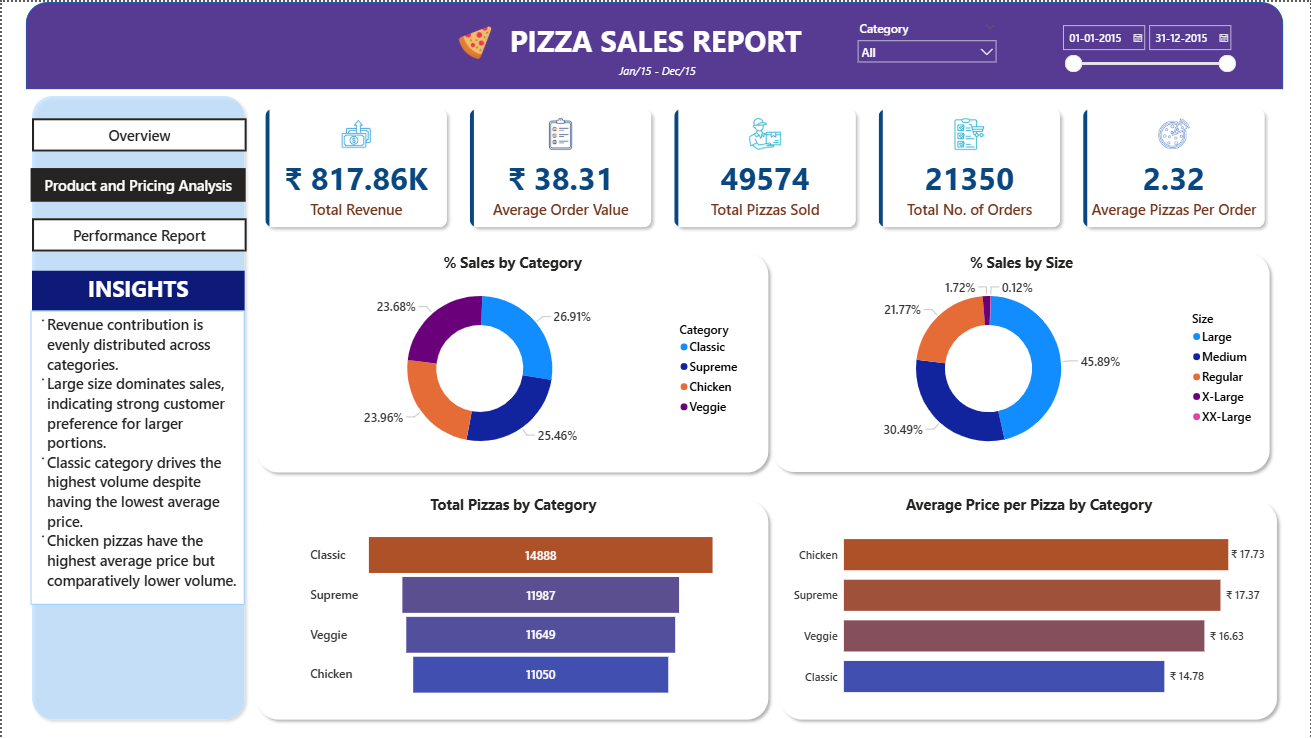

Layout of this report page (visuals, bound fields, positions):
{"tool":"powerbi","page":{"name":"Product and Pricing Analysis","canvas":[1920,1080],"ordinal":1},"visuals":[{"type":"shape","box":[34.9,0,1845.3,128.4],"z":0},{"type":"textbox","box":[656.7,22,605.3,73.4],"z":1000},{"type":"textbox","box":[882.3,84.4,159.6,33],"z":2000},{"type":"image","box":[669.5,34.9,49.5,49.5],"z":3000},{"type":"shape","box":[365,359.5,768.6,340],"z":4000},{"type":"shape","box":[365,722.7,768.6,339.3],"z":5000},{"type":"shape","box":[1122.6,359.5,746.5,339.3],"z":6000},{"type":"shape","box":[1133.6,722.7,746.5,339.3],"z":7000},{"type":"donutChart","title":"% Sales by Size","fields":{"Y":["pizza_sales.Total Revenue"],"Category":["pizza_sales.pizza_size_full"]},"box":[1144.6,366.8,702.5,313.7],"z":8000},{"type":"donutChart","title":"% Sales by Category","fields":{"Category":["pizza_sales.pizza_category"],"Y":["pizza_sales.Total Revenue"]},"box":[403.5,366.8,691.5,313.7],"z":9000},{"type":"funnel","title":"Total Pizzas by Category","fields":{"Category":["pizza_sales.pizza_category"],"Y":["Sum(pizza_sales.quantity)"]},"box":[447.6,722.7,605.3,322.8],"z":10000},{"type":"barChart","title":"Average Price per Pizza by Category","fields":{"Category":["pizza_sales.pizza_category"],"Y":["pizza_sales.Average Price per Pizza"]},"box":[1155.6,722.7,702.5,321],"z":11000},{"type":"shape","box":[34.9,128.4,330.2,933.6],"z":12000},{"type":"textbox","box":[44,394.4,311.8,58.7],"z":13000},{"type":"textbox","box":[42.2,453.1,313.7,431],"z":14000},{"type":"cardVisual","fields":{"Data":["pizza_sales.Total Revenue","pizza_sales.Average Order Value","pizza_sales.Total Pizzas Sold","pizza_sales.Total No. of Orders","pizza_sales.Average Pizzas Per Order"]},"box":[357.7,128.4,1527.9,231.1],"z":15000},{"type":"slicer","fields":{"Values":["pizza_sales.pizza_category"]},"box":[1245.5,22,223.8,78.9],"z":16000},{"type":"slicer","fields":{"Values":["pizza_sales.order_date"]},"box":[1544.4,23.8,275.1,93.5],"z":17000},{"type":"pageNavigator","box":[42.2,244,315.5,49.5],"z":17001},{"type":"pageNavigator","box":[44,170.6,315.5,49.5],"z":17002},{"type":"pageNavigator","box":[44,317.3,315.5,49.5],"z":17003}]}

Visuals, with their boxes in screenshot pixels (x1, y1, x2, y2), scaled from the page's 1920x1080 canvas onto the 1311x738 screenshot:
shape: 24/0/1284/88
textbox: 448/15/862/65
textbox: 602/58/711/80
image: 457/24/491/58
shape: 249/246/774/478
shape: 249/494/774/726
shape: 767/246/1276/478
shape: 774/494/1284/726
"% Sales by Size" donutChart: 782/251/1261/465
"% Sales by Category" donutChart: 276/251/748/465
"Total Pizzas by Category" funnel: 306/494/719/714
"Average Price per Pizza by Category" barChart: 789/494/1269/713
shape: 24/88/249/726
textbox: 30/270/243/310
textbox: 29/310/243/604
cardVisual - pizza_sales.Total Revenue x pizza_sales.Average Order Value: 244/88/1288/246
slicer - pizza_sales.pizza_category: 850/15/1003/69
slicer - pizza_sales.order_date: 1055/16/1242/80
pageNavigator: 29/167/244/201
pageNavigator: 30/117/245/150
pageNavigator: 30/217/245/251
